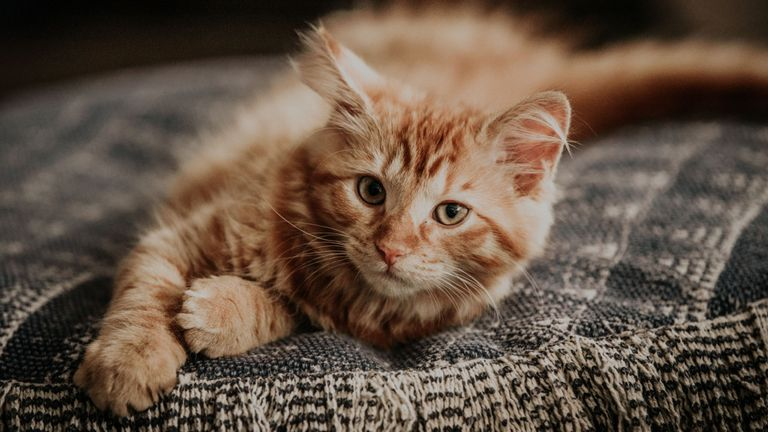cat: (52, 4, 768, 424)
